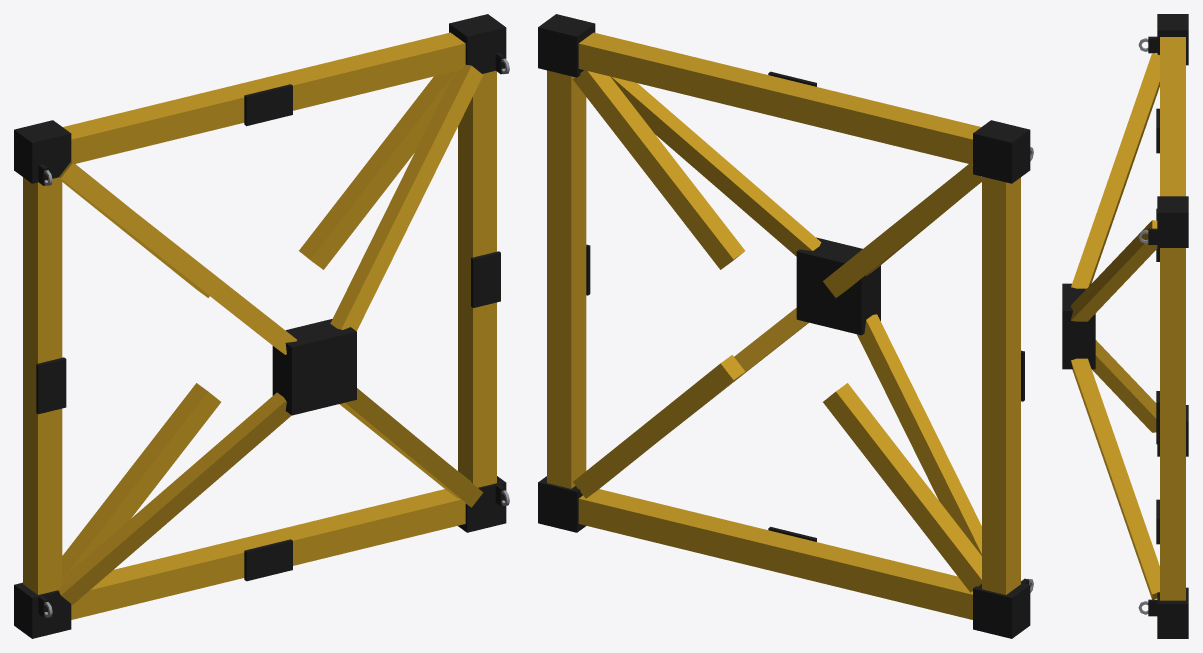
The model's file is tr20k_frame.obj.
3 views of the same model, side by side, from view 1: azimuth 30°, elevation 25°; view 2: azimuth 150°, elevation 25°; view 3: azimuth 270°, elevation 25° (orthographic). The views are drawn at different scales.
Visible parts, largest first — view 1: tr20k_frame; view 2: tr20k_frame; view 3: tr20k_frame.
Part boxes in pixels (x1,y1,x2,y2): tr20k_frame: (14, 14, 509, 638); tr20k_frame: (538, 14, 1033, 638); tr20k_frame: (1062, 14, 1188, 638).
Size of the model in its own units: 5.1 by 5.1 by 1.37.
